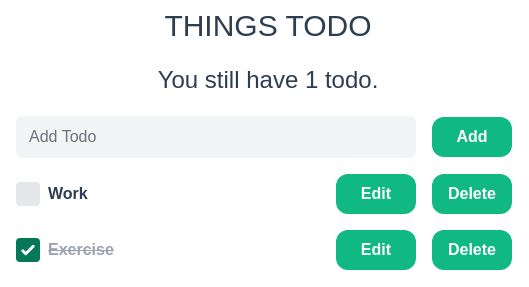
TodoList.vue › edit todo successfully
Click the button "Edit" in the row of "Work" at (376, 194), box x1=336 y1=174 x2=416 y2=214
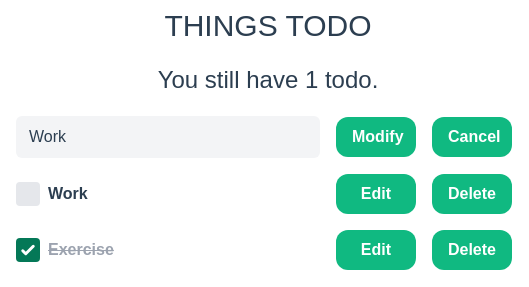
Result: the field holds "Work"
Result: the button "Modify" is shown at x1=336 y1=117 x2=416 y2=157
Result: the button "Cancel" is shown at x1=432 y1=117 x2=512 y2=157
Replace the text in the field with "Todo test" at (168, 137), box x1=16 y1=116 x2=320 y2=158
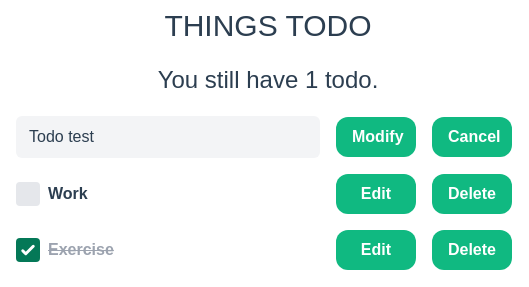
Click the button "Modify" at (376, 137), box x1=336 y1=117 x2=416 y2=157
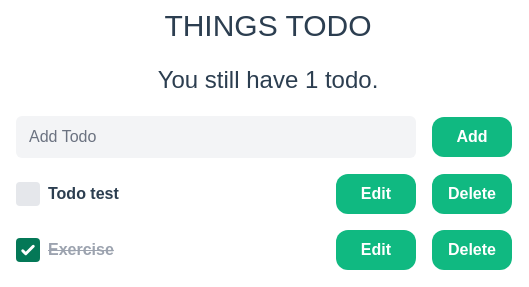
Result: the field is empty at x1=16 y1=116 x2=416 y2=158
Result: the button "Add" is shown at x1=432 y1=117 x2=512 y2=157
Result: the label "Todo test" is shown at x1=48 y1=185 x2=119 y2=202
